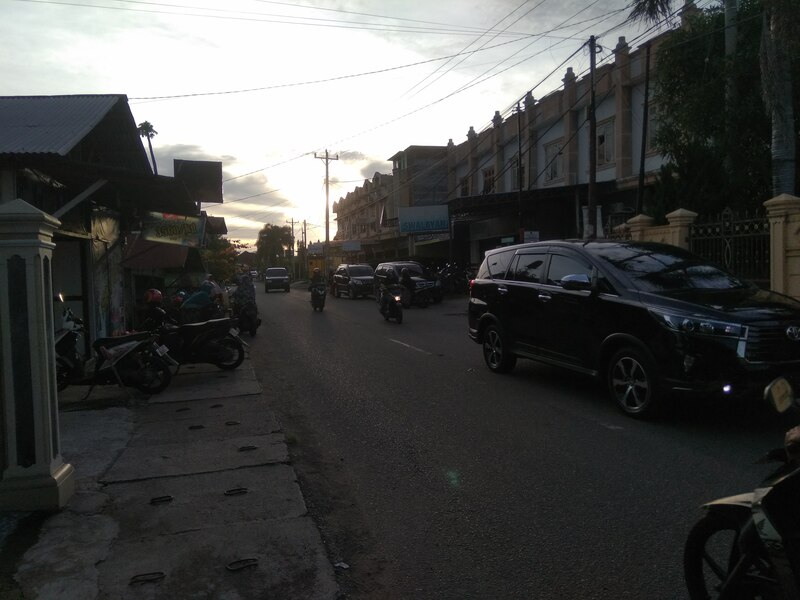car: (463, 233, 800, 429), (376, 261, 447, 312), (330, 259, 374, 302), (263, 265, 293, 295)
motorcycle: (676, 373, 799, 596), (55, 290, 186, 400), (143, 303, 254, 371), (377, 281, 407, 327), (308, 280, 327, 315)
